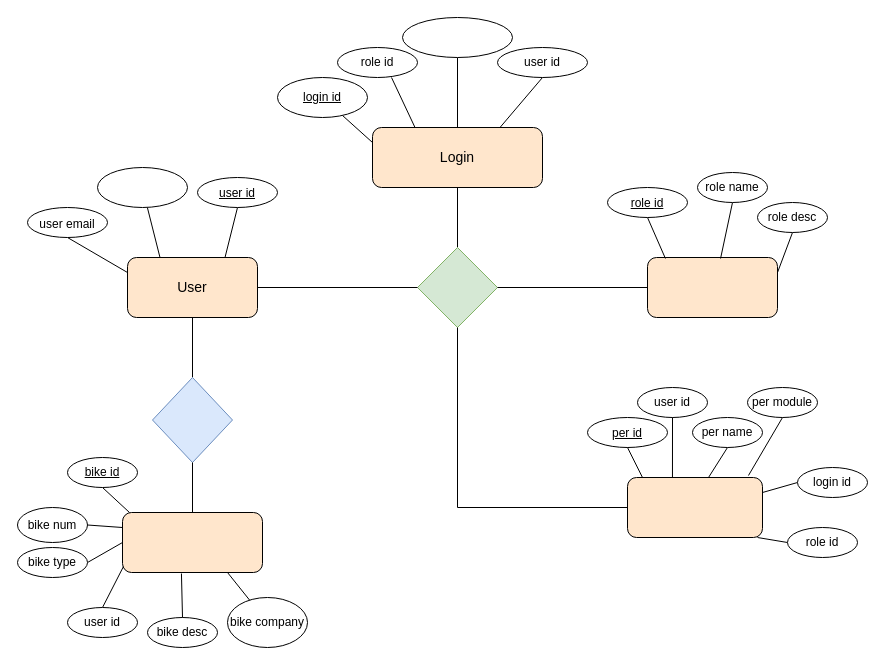
Some shapes in this 885 by 665 pixel diagram are drawn without their labels. The shapes that lost their labels are listed below. From the top down, each one's centre as x and y in pixels, then its label:
At (x=457, y=37): "login username".
At (x=142, y=187): "user name".
At (x=457, y=287): "Has".
At (x=712, y=287): "Roles".
At (x=192, y=419): "Buys".
At (x=694, y=507): "Permission".
At (x=192, y=542): "Bike".
